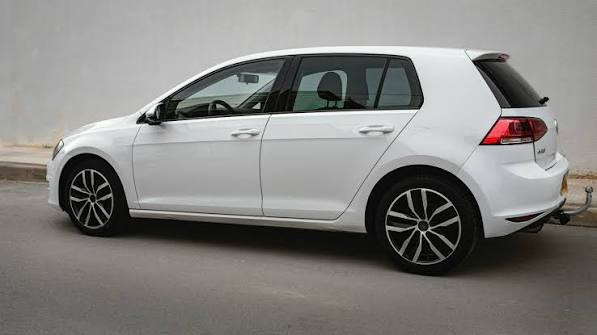car: (35, 41, 587, 276)
